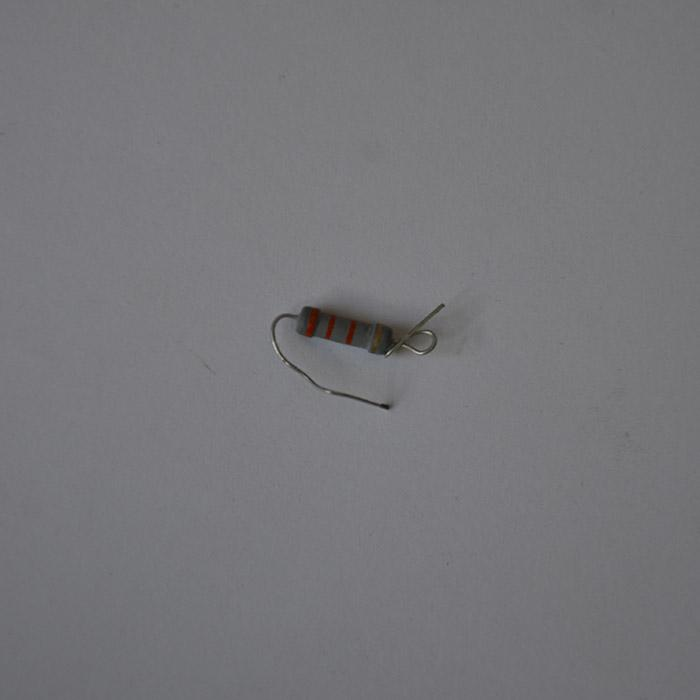resistor: (295, 304, 393, 356)
